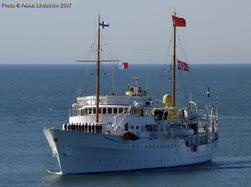otherboat: (40, 83, 222, 176)
